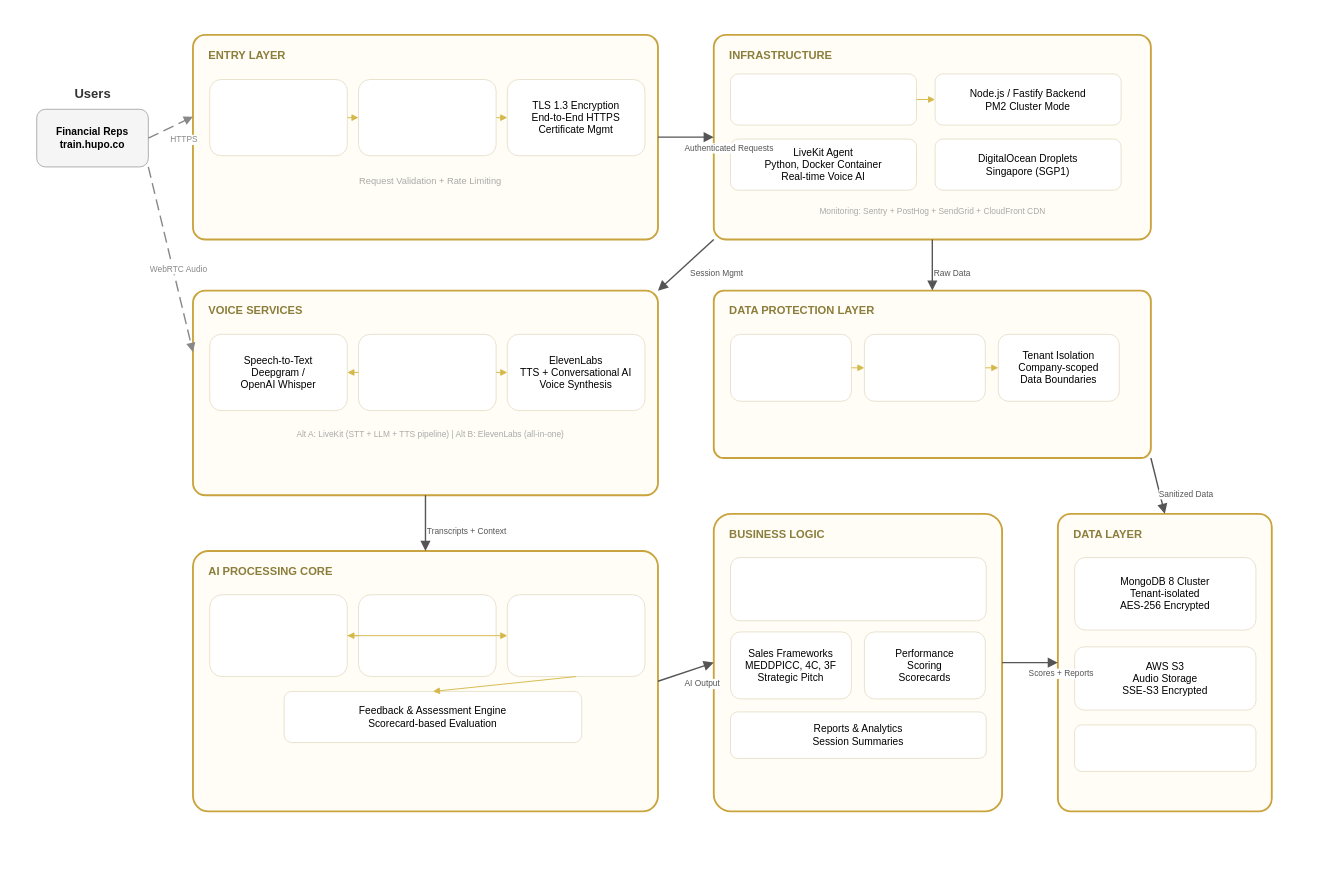
This 1334x887 diagram has some shape labels left out. The centre of each missing label's shape, as x and y in pixels:
Audit Log Pipeline Access Tracking: the point at 1165,747
Auth0 SSO SAML / OIDC JWT Validation: the point at 427,117
Cloudflare WAF CDN + DDoS Protection SSL Termination: the point at 278,117
Data Masking Engine Transcript Redaction: the point at 924,367
LiveKit Cloud WebRTC Real-time Streaming: the point at 427,372
LLM Engine Anthropic Claude / OpenAI GPT (via LangChain): the point at 278,635
Load Balancer HTTPS (443) Health Checks: the point at 823,99
Persona & Scenario Configuration Modules / Scenarios: the point at 858,589
PII Detection Scanner LLM-based Analysis: the point at 790,367
Response Generation AI Synthesis: the point at 575,635
Session Context Manager Persona Prompts + Conversation History: the point at 427,635
